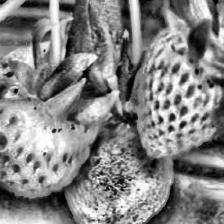Gray Mold: (64, 112, 174, 224)
